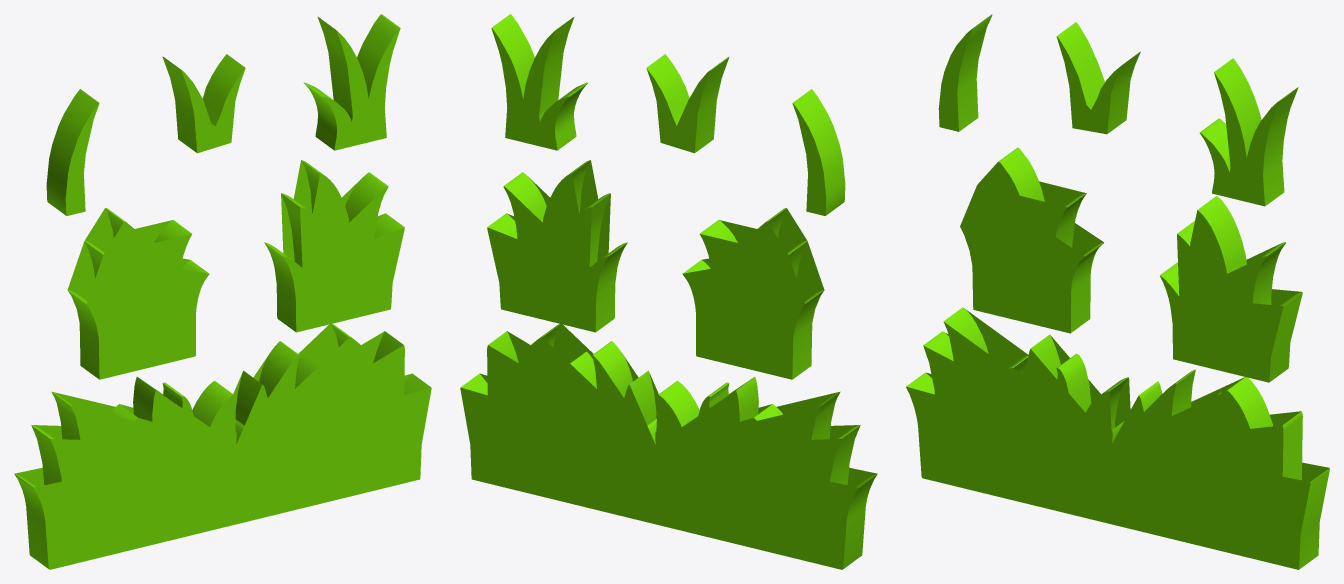
The model's file is lowpoly grass item .fbx.
3 renders of one model, left to right at view 1: azimuth 30°, elevation 25°; view 2: azimuth 150°, elevation 25°; view 3: azimuth 330°, elevation 25°, orthographic.
Parts seen in each view (by area): view 1: Curve, Curve.002, Curve.001, Curve.003, Curve.004, Curve.005; view 2: Curve, Curve.002, Curve.001, Curve.003, Curve.004, Curve.005; view 3: Curve, Curve.002, Curve.001, Curve.003, Curve.004, Curve.005.
Part boxes in pixels (left/top/right/bottom): Curve: left=14, top=324, right=431, bottom=569; Curve.002: left=67, top=208, right=209, bottom=379; Curve.001: left=264, top=160, right=404, bottom=332; Curve.003: left=303, top=14, right=400, bottom=150; Curve.004: left=162, top=54, right=245, bottom=153; Curve.005: left=46, top=89, right=99, bottom=215; Curve: left=460, top=324, right=877, bottom=569; Curve.002: left=682, top=208, right=824, bottom=379; Curve.001: left=487, top=160, right=627, bottom=332; Curve.003: left=491, top=14, right=588, bottom=150; Curve.004: left=646, top=54, right=729, bottom=153; Curve.005: left=792, top=89, right=845, bottom=215; Curve: left=906, top=307, right=1329, bottom=569; Curve.002: left=960, top=147, right=1103, bottom=333; Curve.001: left=1159, top=196, right=1302, bottom=382; Curve.003: left=1199, top=58, right=1298, bottom=206; Curve.004: left=1056, top=22, right=1140, bottom=134; Curve.005: left=938, top=14, right=992, bottom=131.
Size of the model in its own units: 221 by 249 by 18.38.
